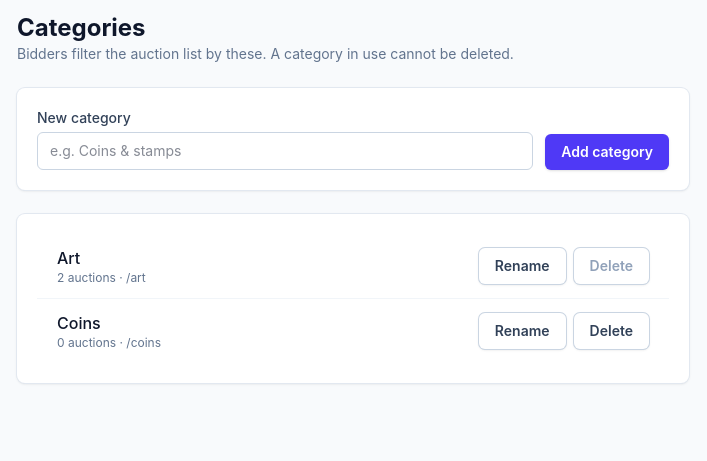
Test: <AdminCategoriesPage> › keeps the category when the admin changes their mind
The width and height of the screenshot is (707, 461).
Step 1. Click the button "Delete" in the row of "0 auctions" → (611, 331), box x1=574 y1=313 x2=649 y2=349
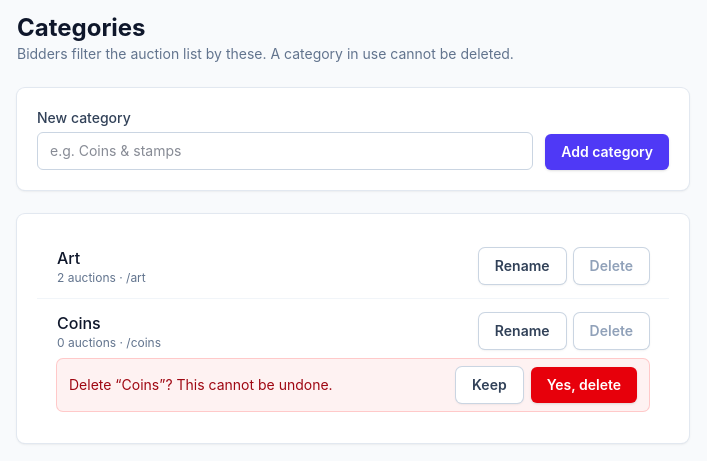
Check: the text "Delete “Coins”? This cannot be undone." is shown, box x1=69 y1=375 x2=333 y2=395
Step 2. Click the button "Keep" → (489, 385), box x1=456 y1=367 x2=523 y2=403
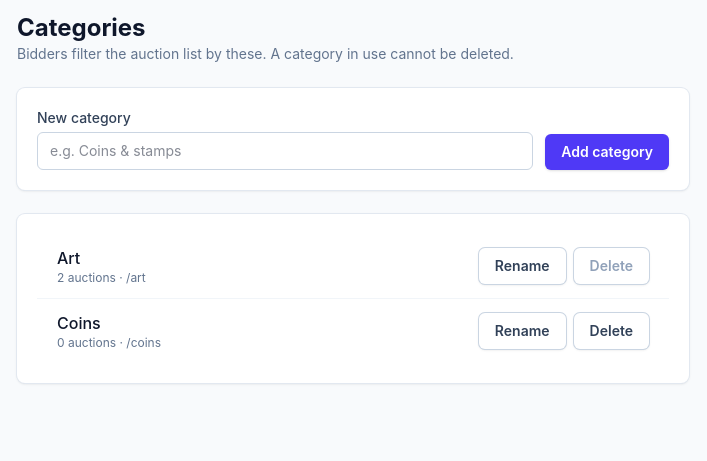
Check: the text "Delete “Coins”? This cannot be undone." is gone
